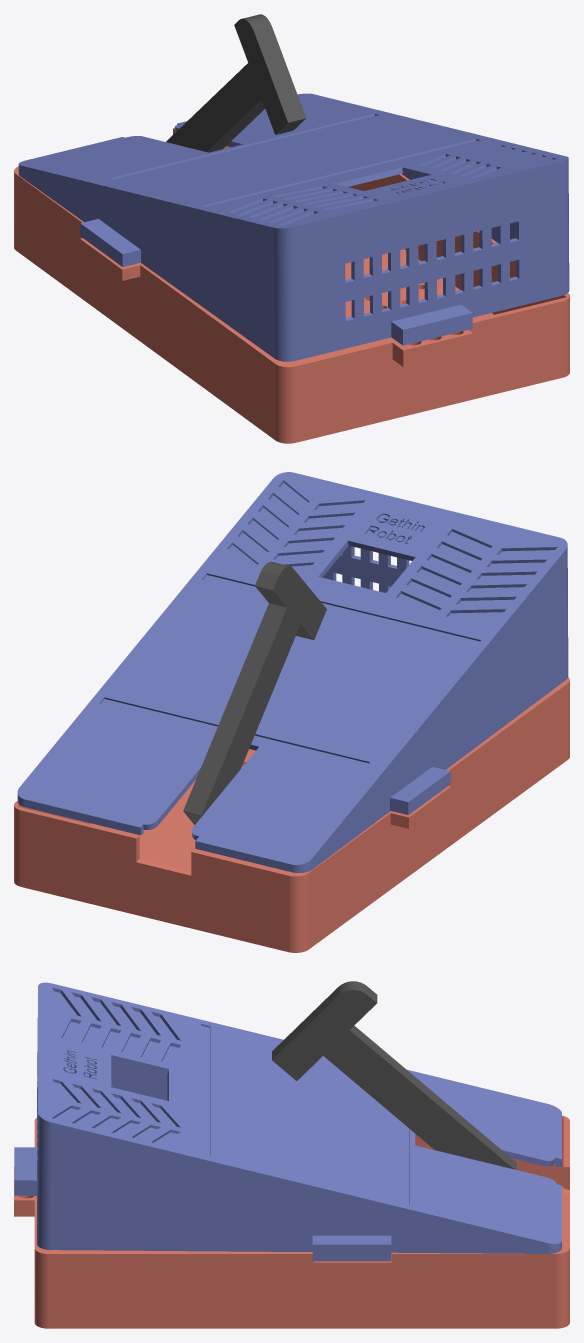
The model's file is robot-chassis-1.glb.
3 views of the same model, one above another, from view 1: azimuth 30°, elevation 25°; view 2: azimuth 150°, elevation 25°; view 3: azimuth 270°, elevation 25° (orthographic). The views are drawn at different scales.
Parts seen in each view (by area): view 1: Body1, Body1_node, Body1_node_0; view 2: Body1, Body1_node, Body1_node_0; view 3: Body1, Body1_node, Body1_node_0.
Boxes of the visible parts, box(x1,y1,x2,y2) form: Body1: box(18, 93, 569, 361); Body1_node: box(14, 128, 569, 443); Body1_node_0: box(166, 14, 306, 152); Body1: box(17, 472, 568, 872); Body1_node: box(14, 677, 569, 952); Body1_node_0: box(183, 561, 326, 824); Body1: box(14, 982, 561, 1261); Body1_node: box(14, 1115, 569, 1328); Body1_node_0: box(272, 981, 516, 1169).
Size of the model in its own units: 108 by 87.56 by 162.
